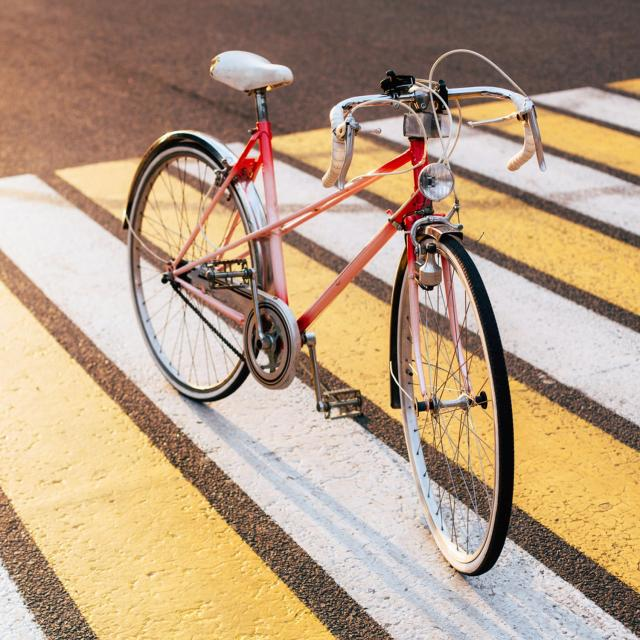urban-bike: (118, 44, 547, 579)
